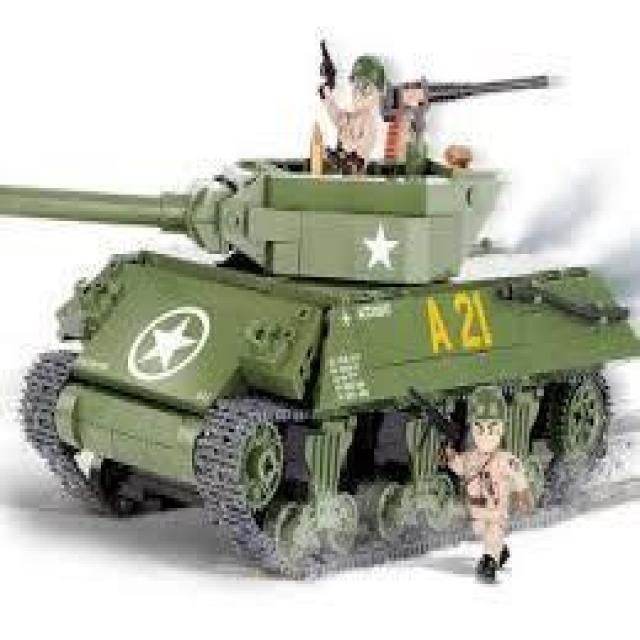MIL_MBT: (9, 33, 575, 594)
